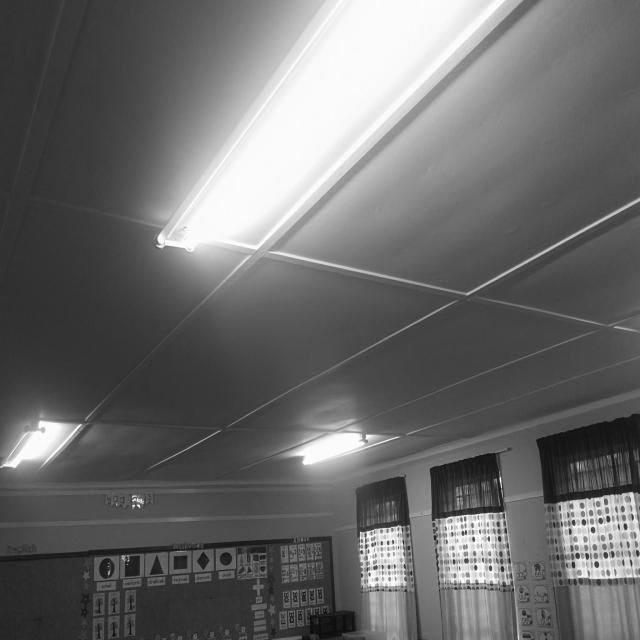light: (153, 0, 512, 257), (6, 420, 84, 468), (299, 430, 372, 467)
